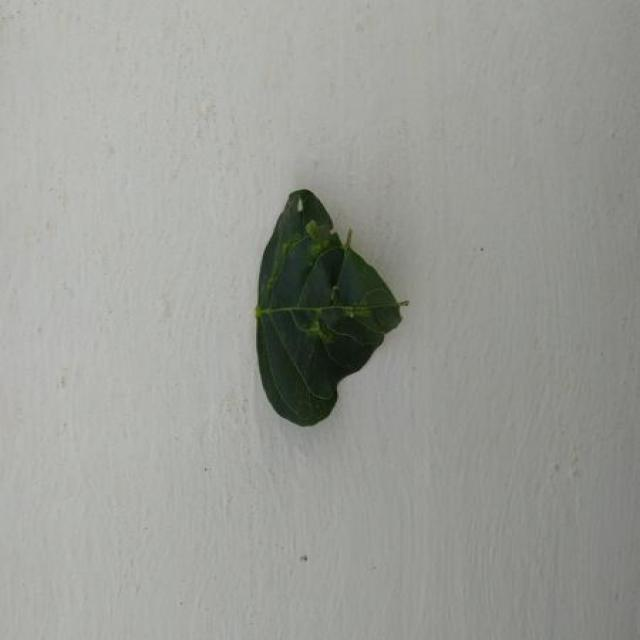honge: (257, 190, 407, 426)
